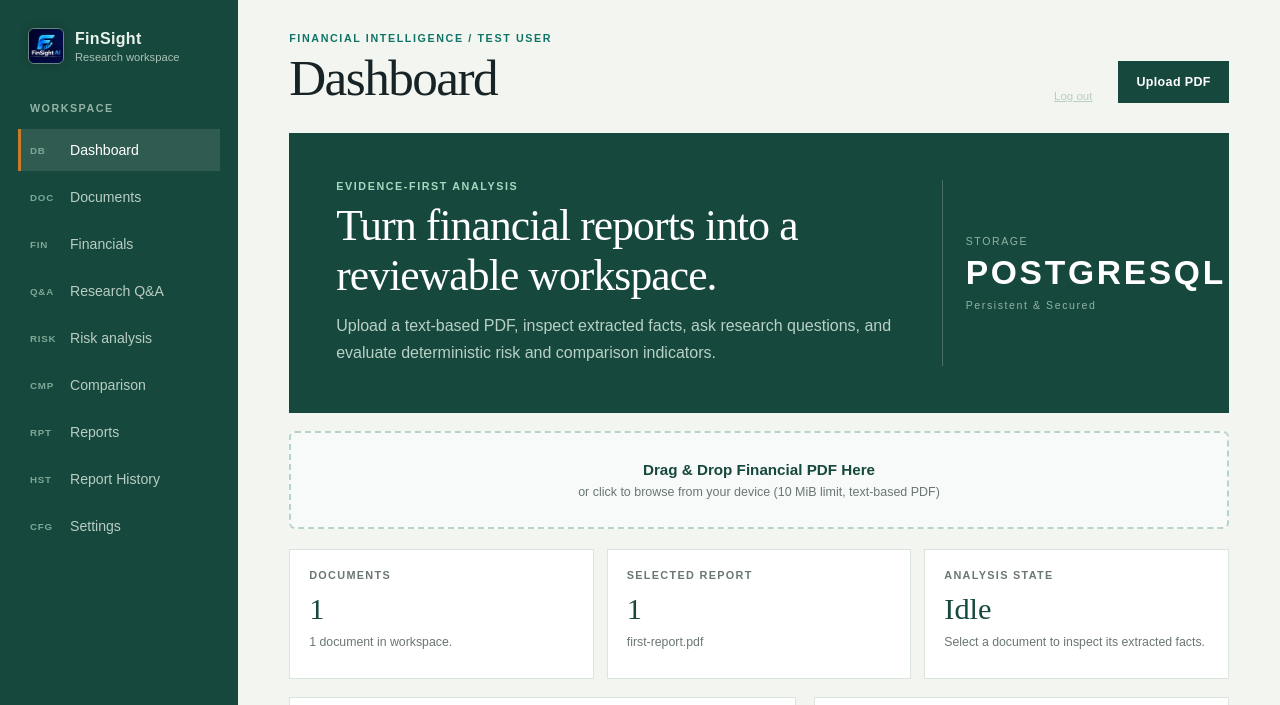
Test: FinSight dashboard › generates a report and exposes report failures
The width and height of the screenshot is (1280, 705).
Click the button "RPT Reports" at [119, 432], box [18, 411, 220, 453]
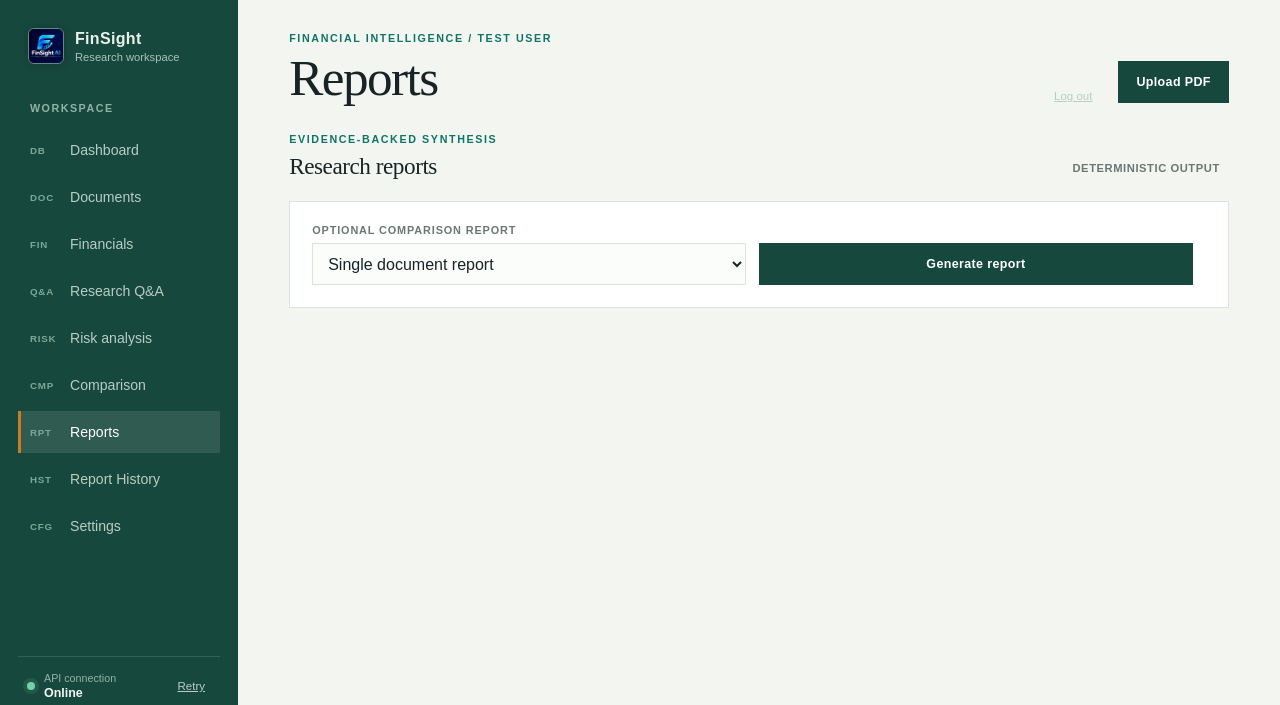
Click the button "Generate report" at [976, 264], box [759, 243, 1193, 285]
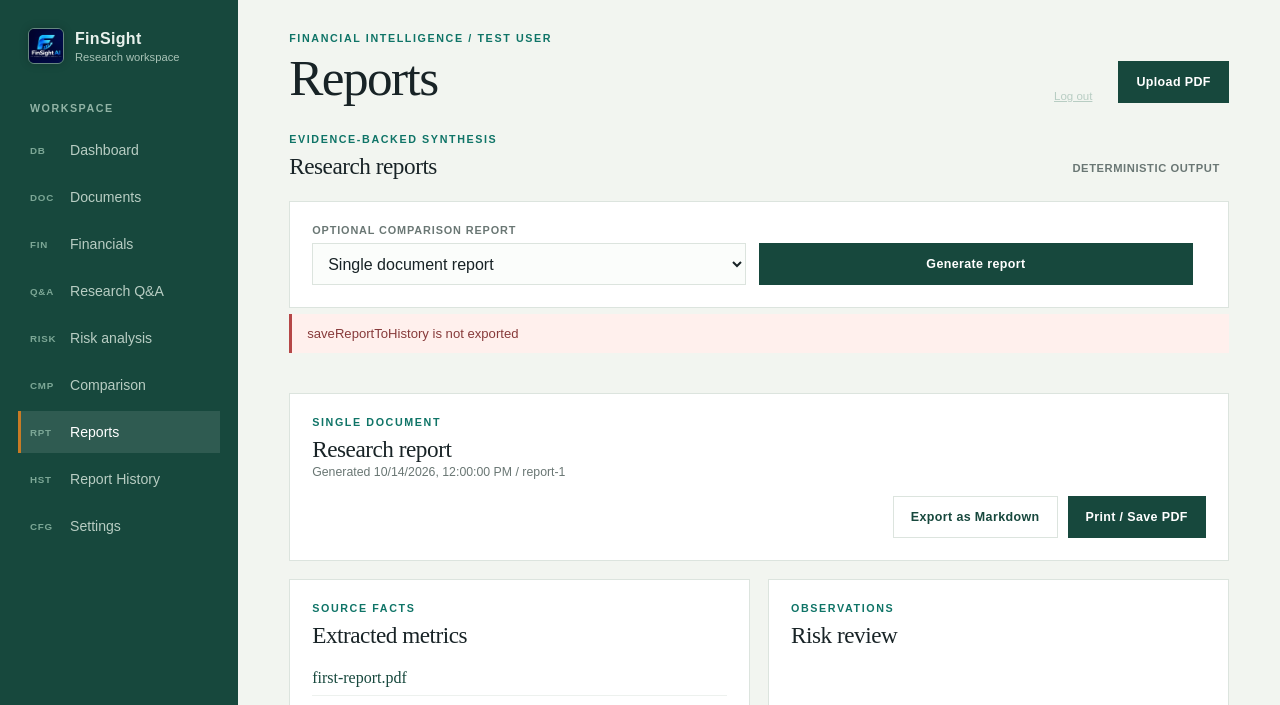
Expected: the heading "Research report" is shown, [312, 436, 451, 462]
Click the button "Generate report" at [976, 264], box [759, 243, 1193, 285]
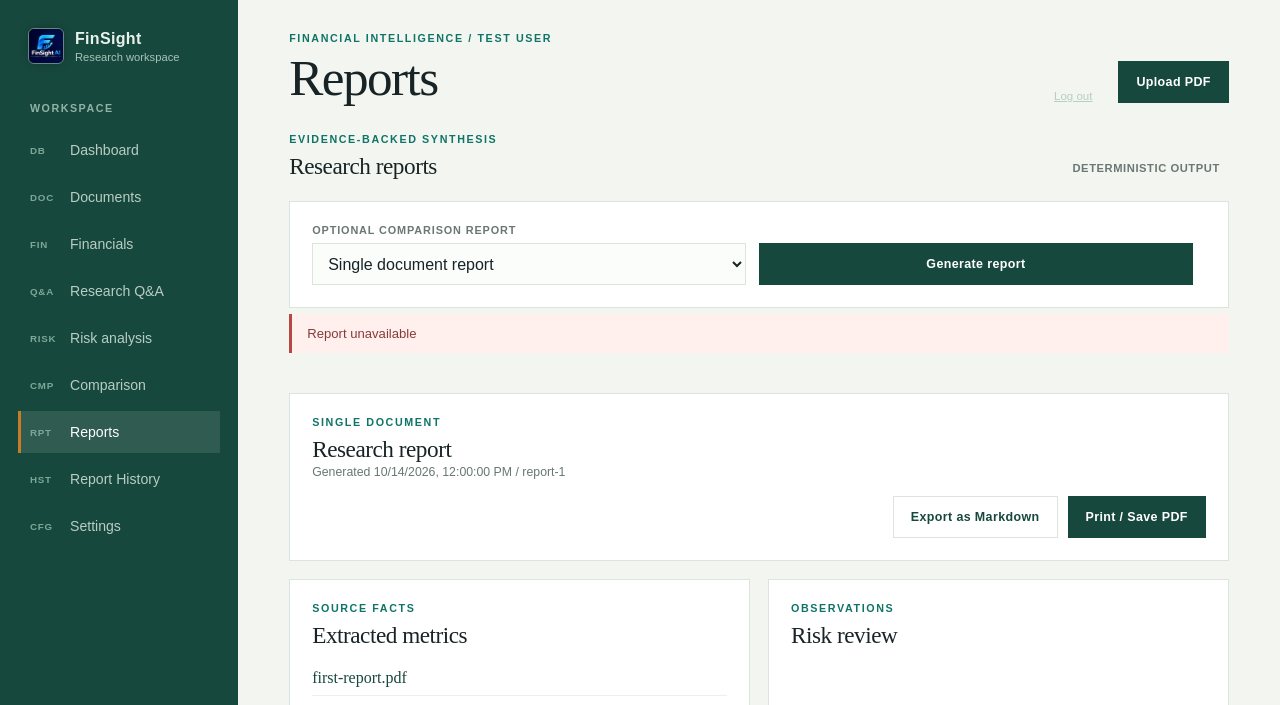
Expected: the text "Report unavailable" is shown, [289, 314, 1229, 353]
